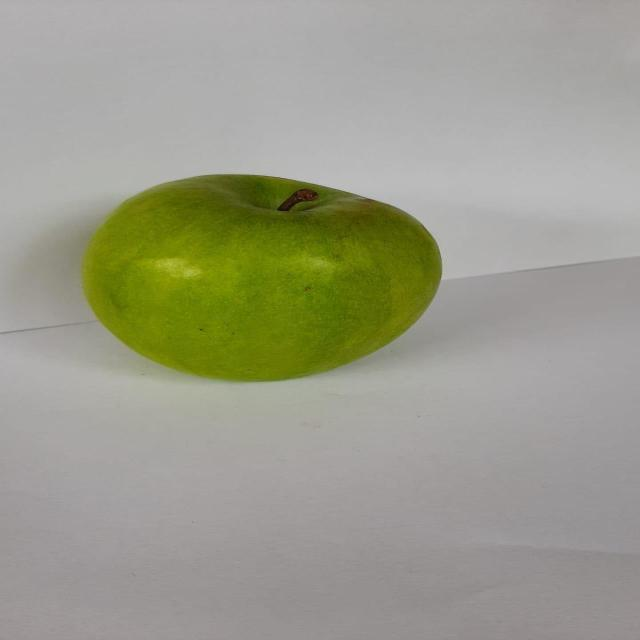Rotten Apple: (59, 166, 447, 391)
